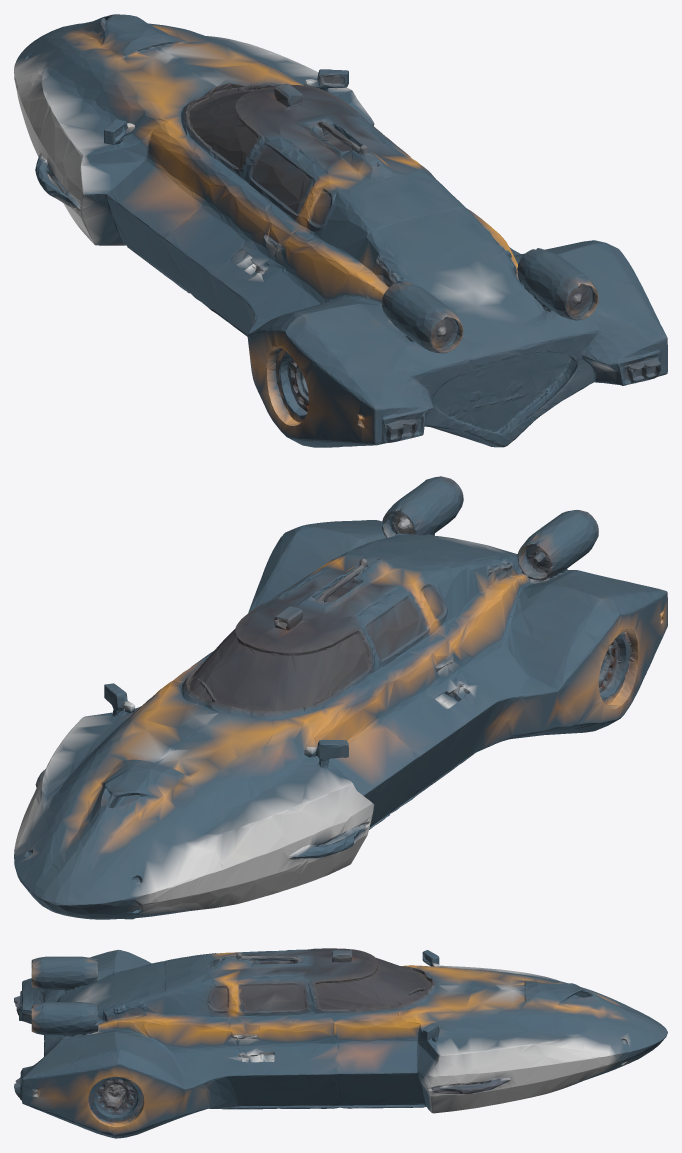
The model's file is ironclad_hi.glb.
3 renders of one model, top to bottom at view 1: azimuth 30°, elevation 25°; view 2: azimuth 150°, elevation 25°; view 3: azimuth 270°, elevation 25°, orthographic. The views are drawn at different scales.
Visible parts, largest first — view 1: geometry_0; view 2: geometry_0; view 3: geometry_0.
Part boxes in pixels (left/top/right/bottom): geometry_0: left=14, top=14, right=667, bottom=447; geometry_0: left=14, top=476, right=667, bottom=919; geometry_0: left=14, top=948, right=667, bottom=1138.
Bounding box in the file's own units: 3.76 × 2.24 × 9.2.
